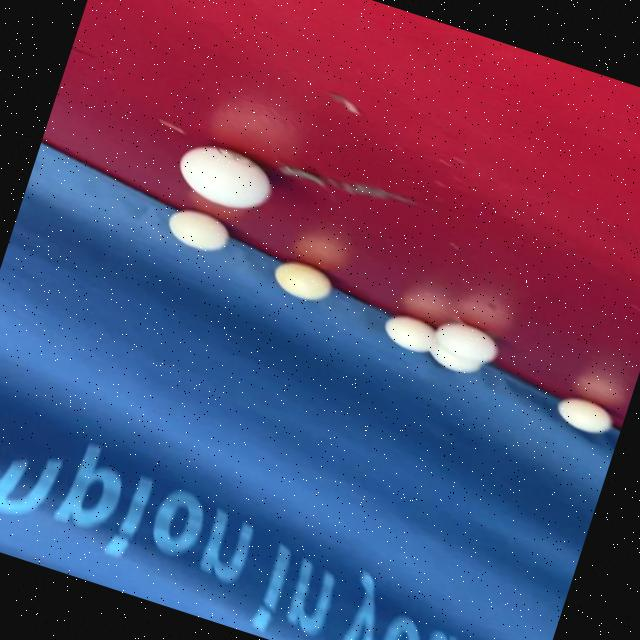ping-pong-ball: (167, 133, 288, 223), (157, 200, 238, 261), (262, 252, 344, 312), (545, 387, 625, 442)
